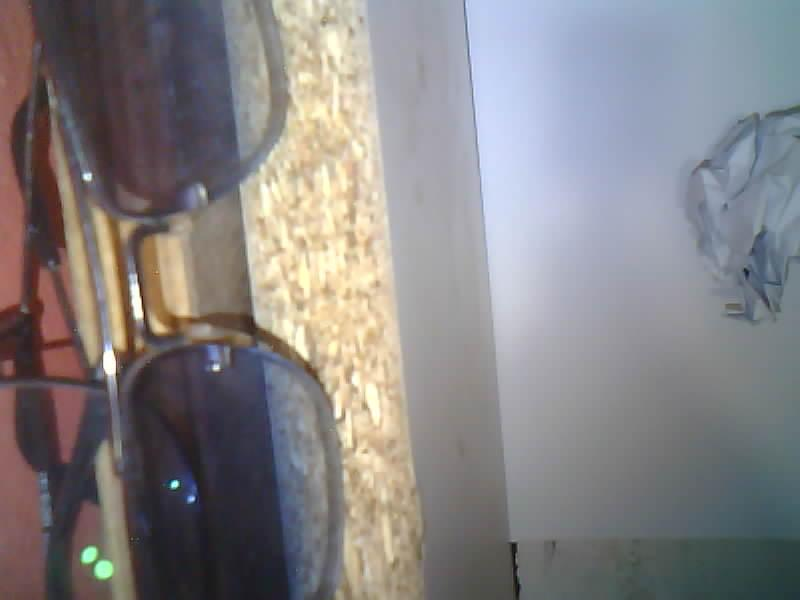biodegradable: (687, 105, 799, 321)
